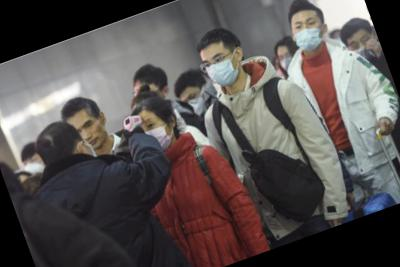with_mask: (134, 112, 178, 160), (201, 47, 245, 93), (289, 12, 331, 56), (346, 30, 380, 65), (177, 88, 210, 121), (20, 153, 48, 182), (277, 49, 296, 72)
without_mask: (73, 114, 110, 155)
